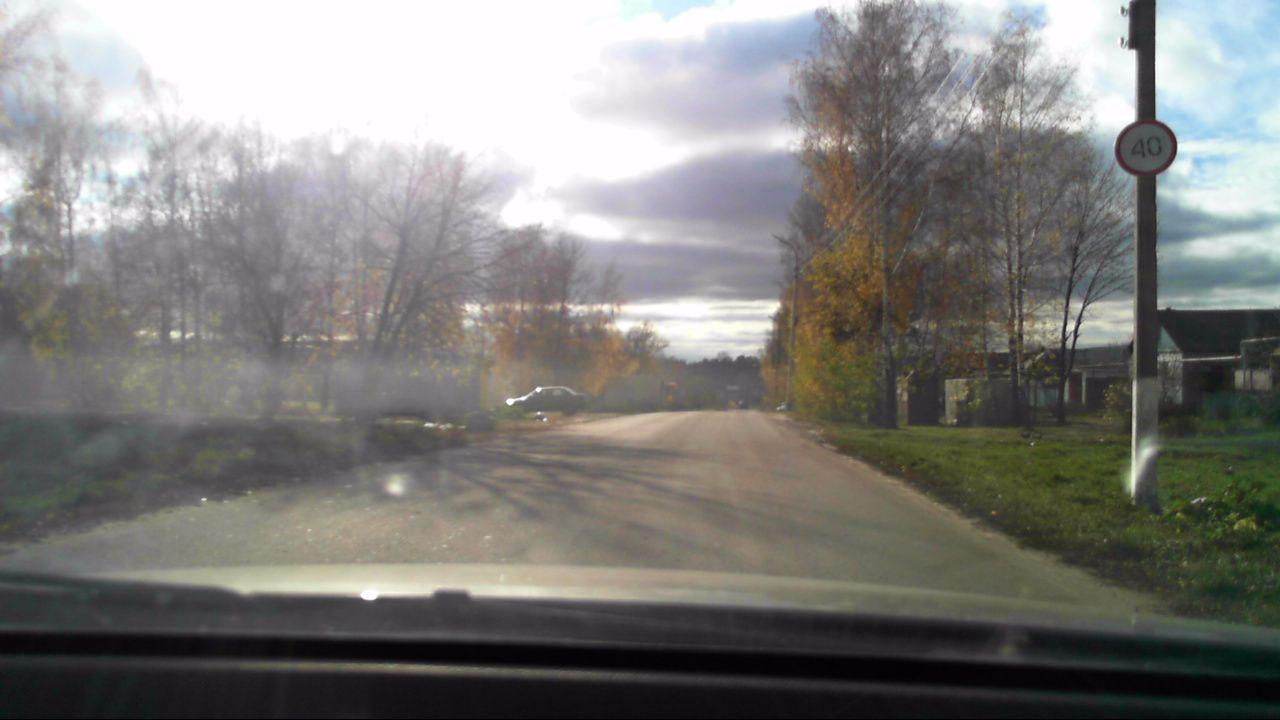3_24: (1115, 118, 1180, 178)
